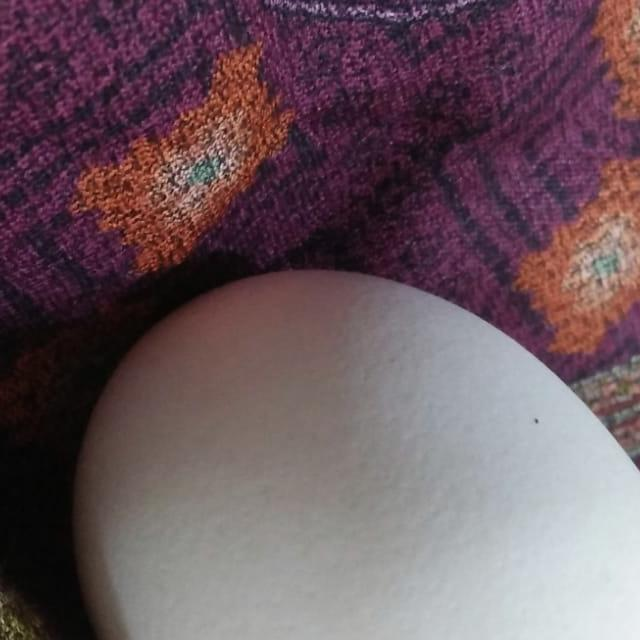egg: (66, 263, 640, 640)
